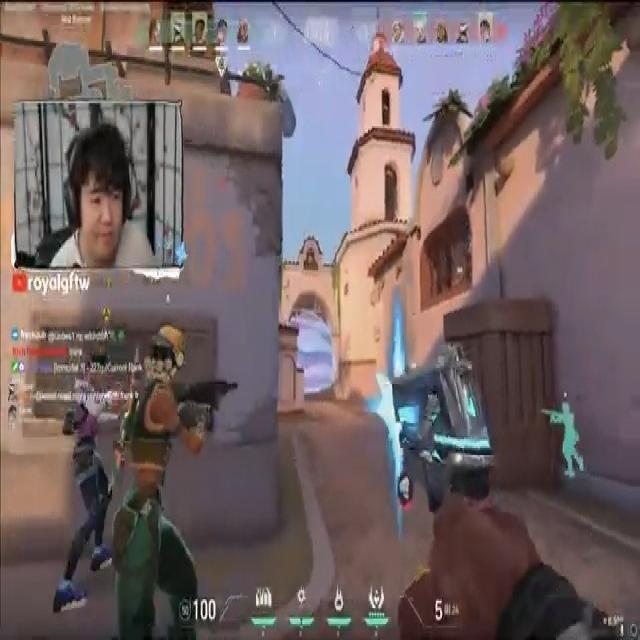ally: (120, 318, 236, 636), (54, 305, 140, 621)
ally behind wall: (542, 394, 592, 487)
smoke: (290, 306, 336, 392)
